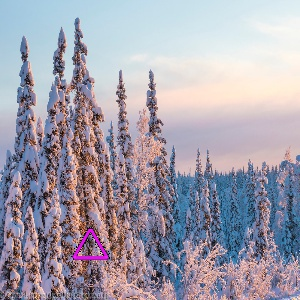triangle: (69, 224, 112, 262)
